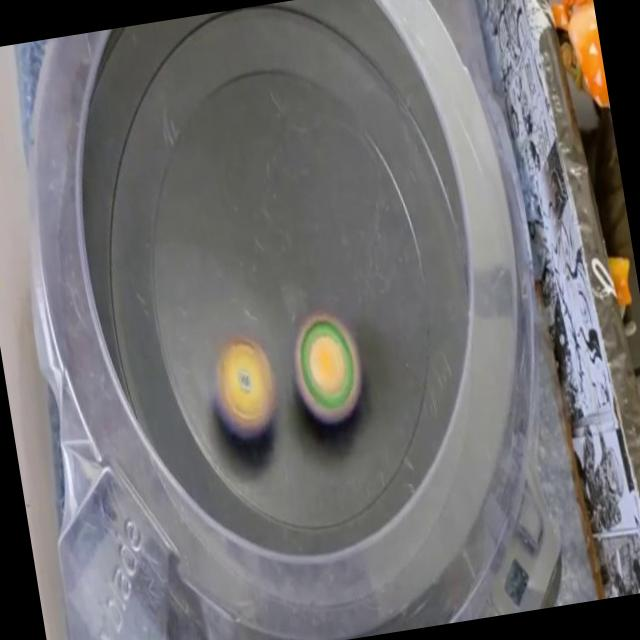Beyblade: (284, 304, 372, 430), (204, 331, 282, 446)
